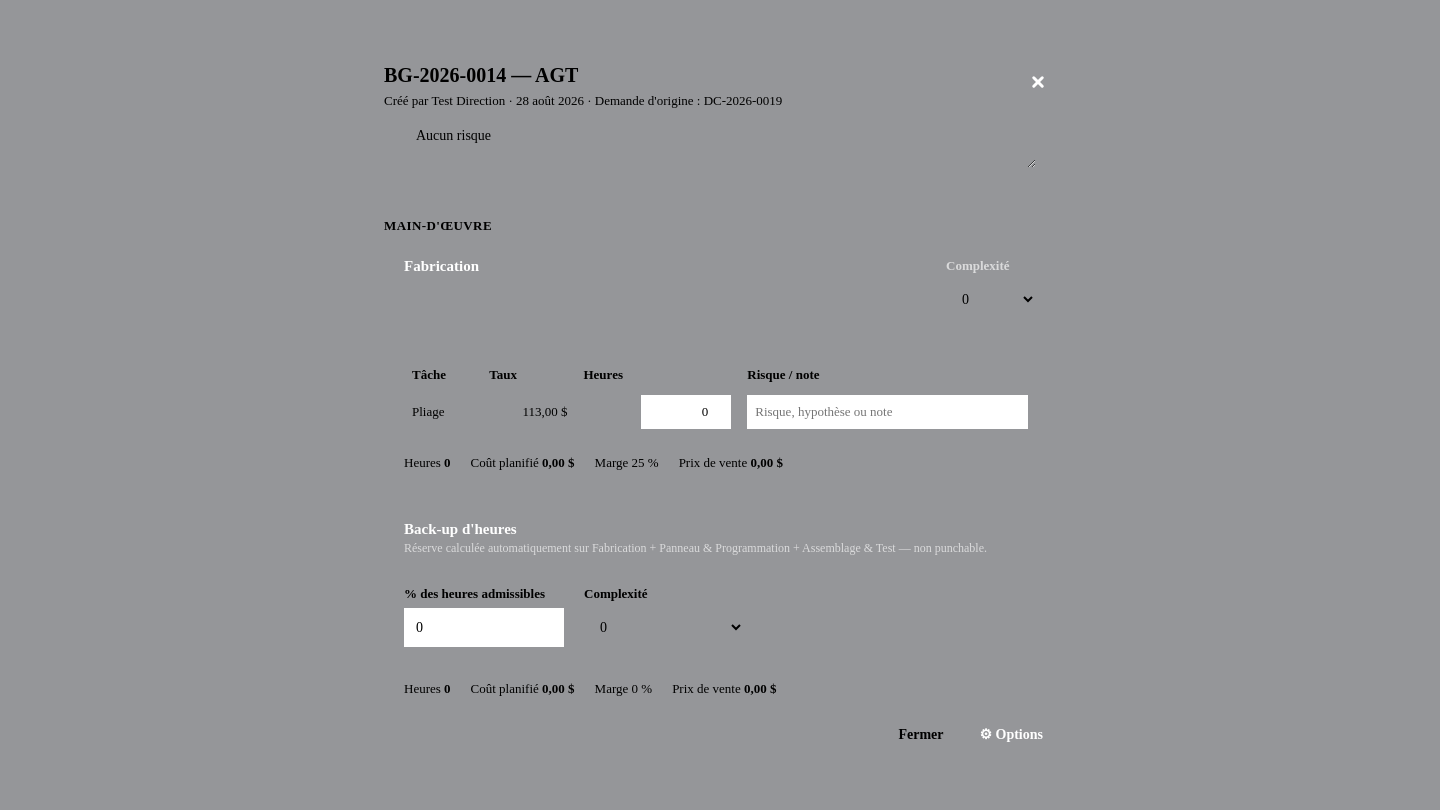
it: BudgetDetail — saisie des heures d'une ligne recalcule bien la section › après avoir saisi 3h sur Pliage et perdu le focus, la section affiche 3h / 339,00 $
(page scrolled)
Expected: the text "Pliage" is shown, [404, 389, 481, 435]
Replace the text in the 1st number field with "3": (686, 412) [641, 395, 731, 429]
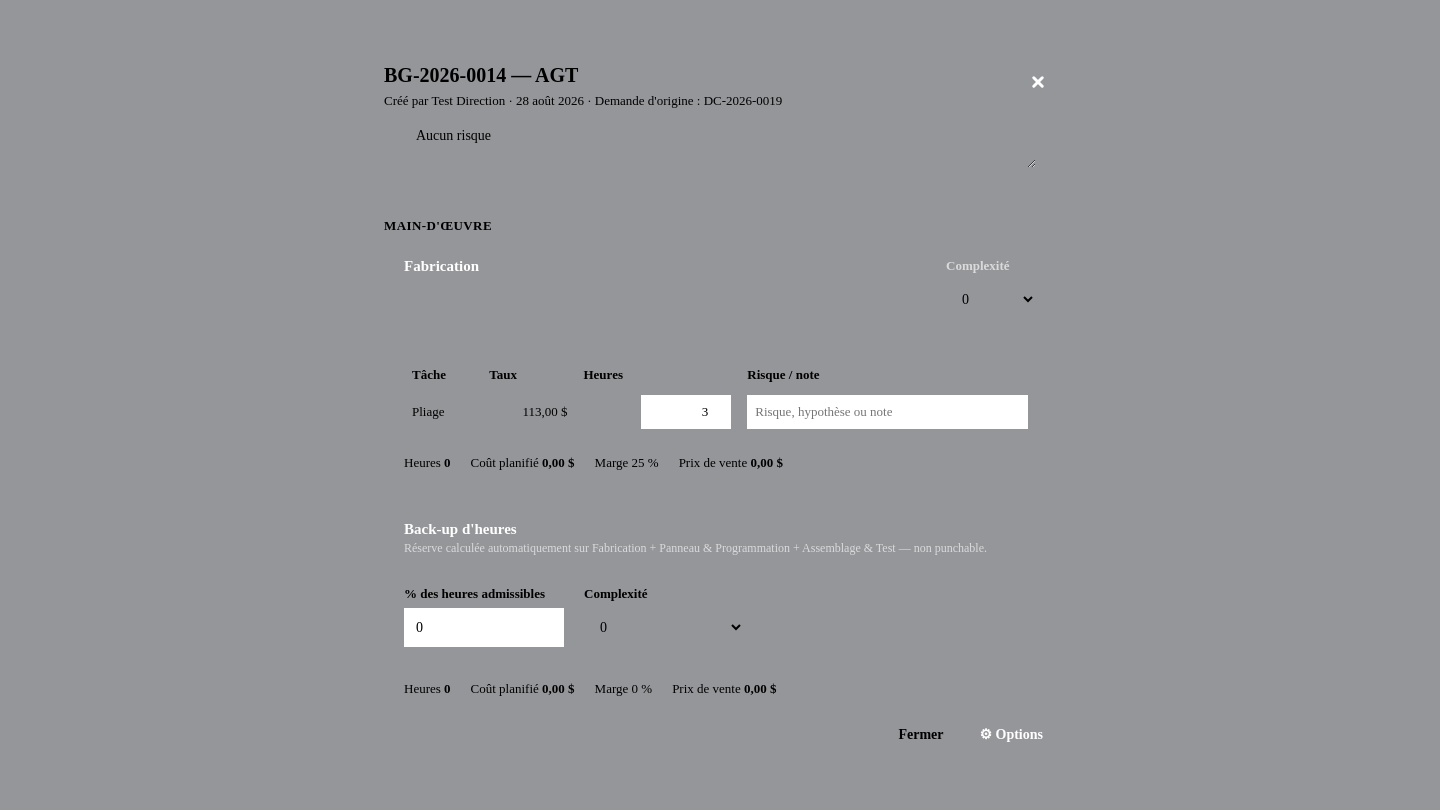
Leave the 1st number field, box [641, 395, 731, 429]
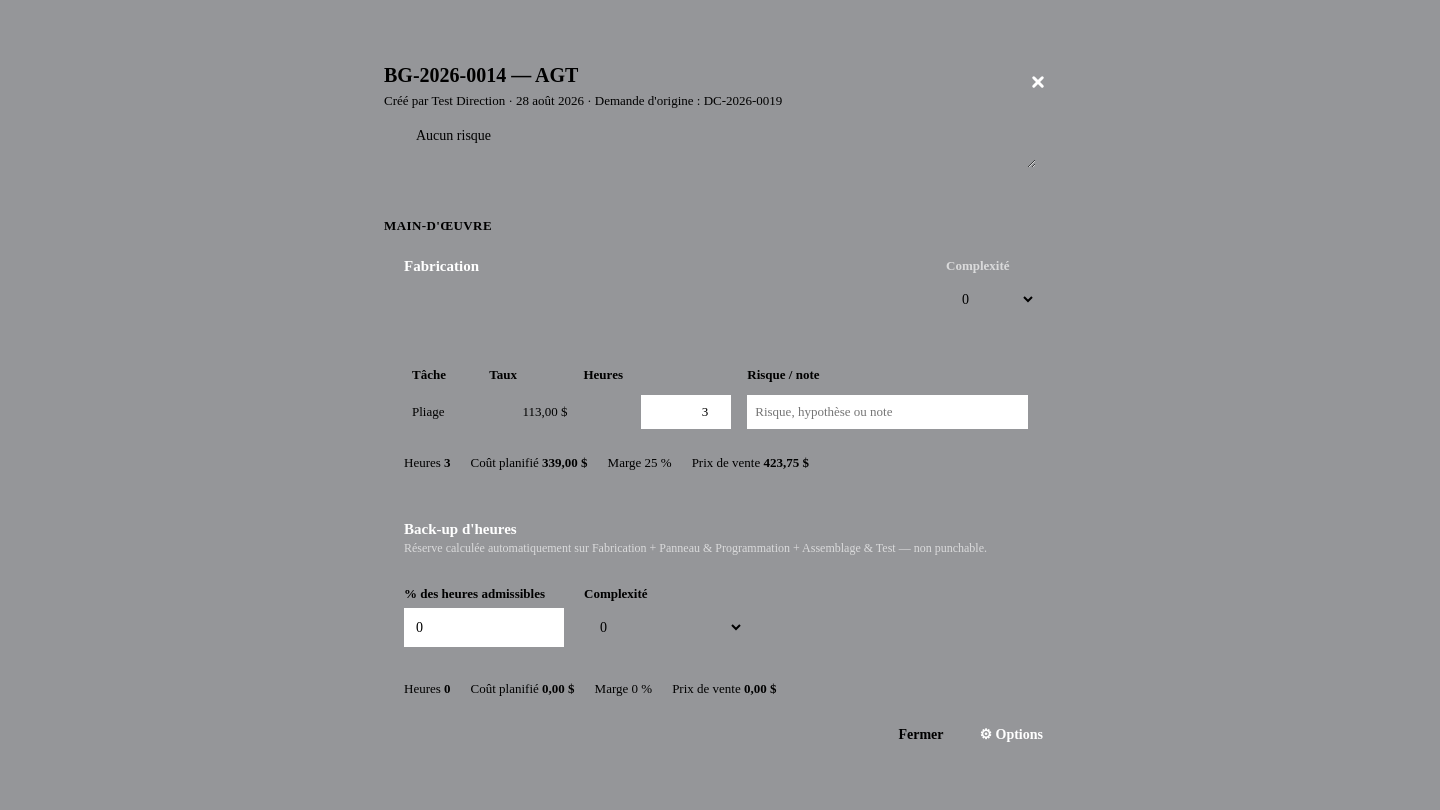
Now the element with class "budget-section-total" reads "Heures 3 Coût planifié 339,00 $ Marge 25 % Prix de vente 423,75 $", box [404, 455, 809, 470]
